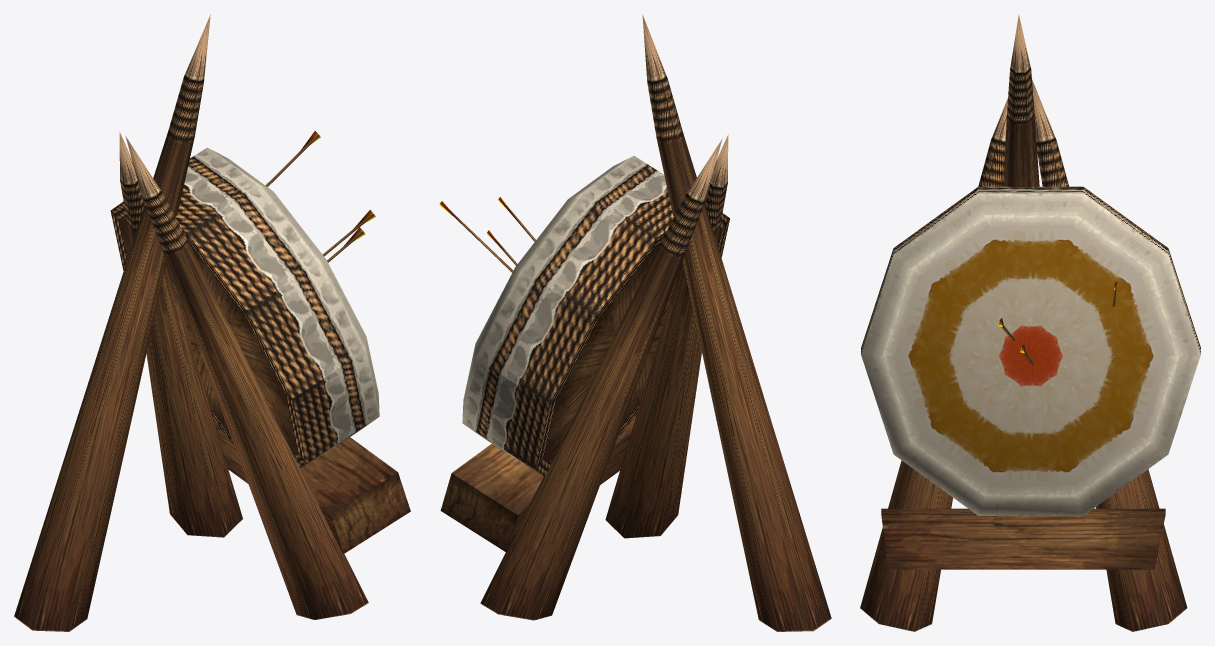
The model's file is stormwindarcherytarget01.obj.
3 views of the same model, side by side, from view 1: azimuth 30°, elevation 25°; view 2: azimuth 150°, elevation 25°; view 3: azimuth 270°, elevation 25° (orthographic).
Parts seen in each view (by area): view 1: stormwindarcherytarget01; view 2: stormwindarcherytarget01; view 3: stormwindarcherytarget01.
Part boxes in pixels (x1,y1,x2,y2): stormwindarcherytarget01: (14, 14, 410, 631); stormwindarcherytarget01: (439, 14, 831, 631); stormwindarcherytarget01: (860, 14, 1200, 631).
Bounding box in the file's own units: 2.94 × 4.72 × 2.51.
Materials: 1 (1 with a texture image).
